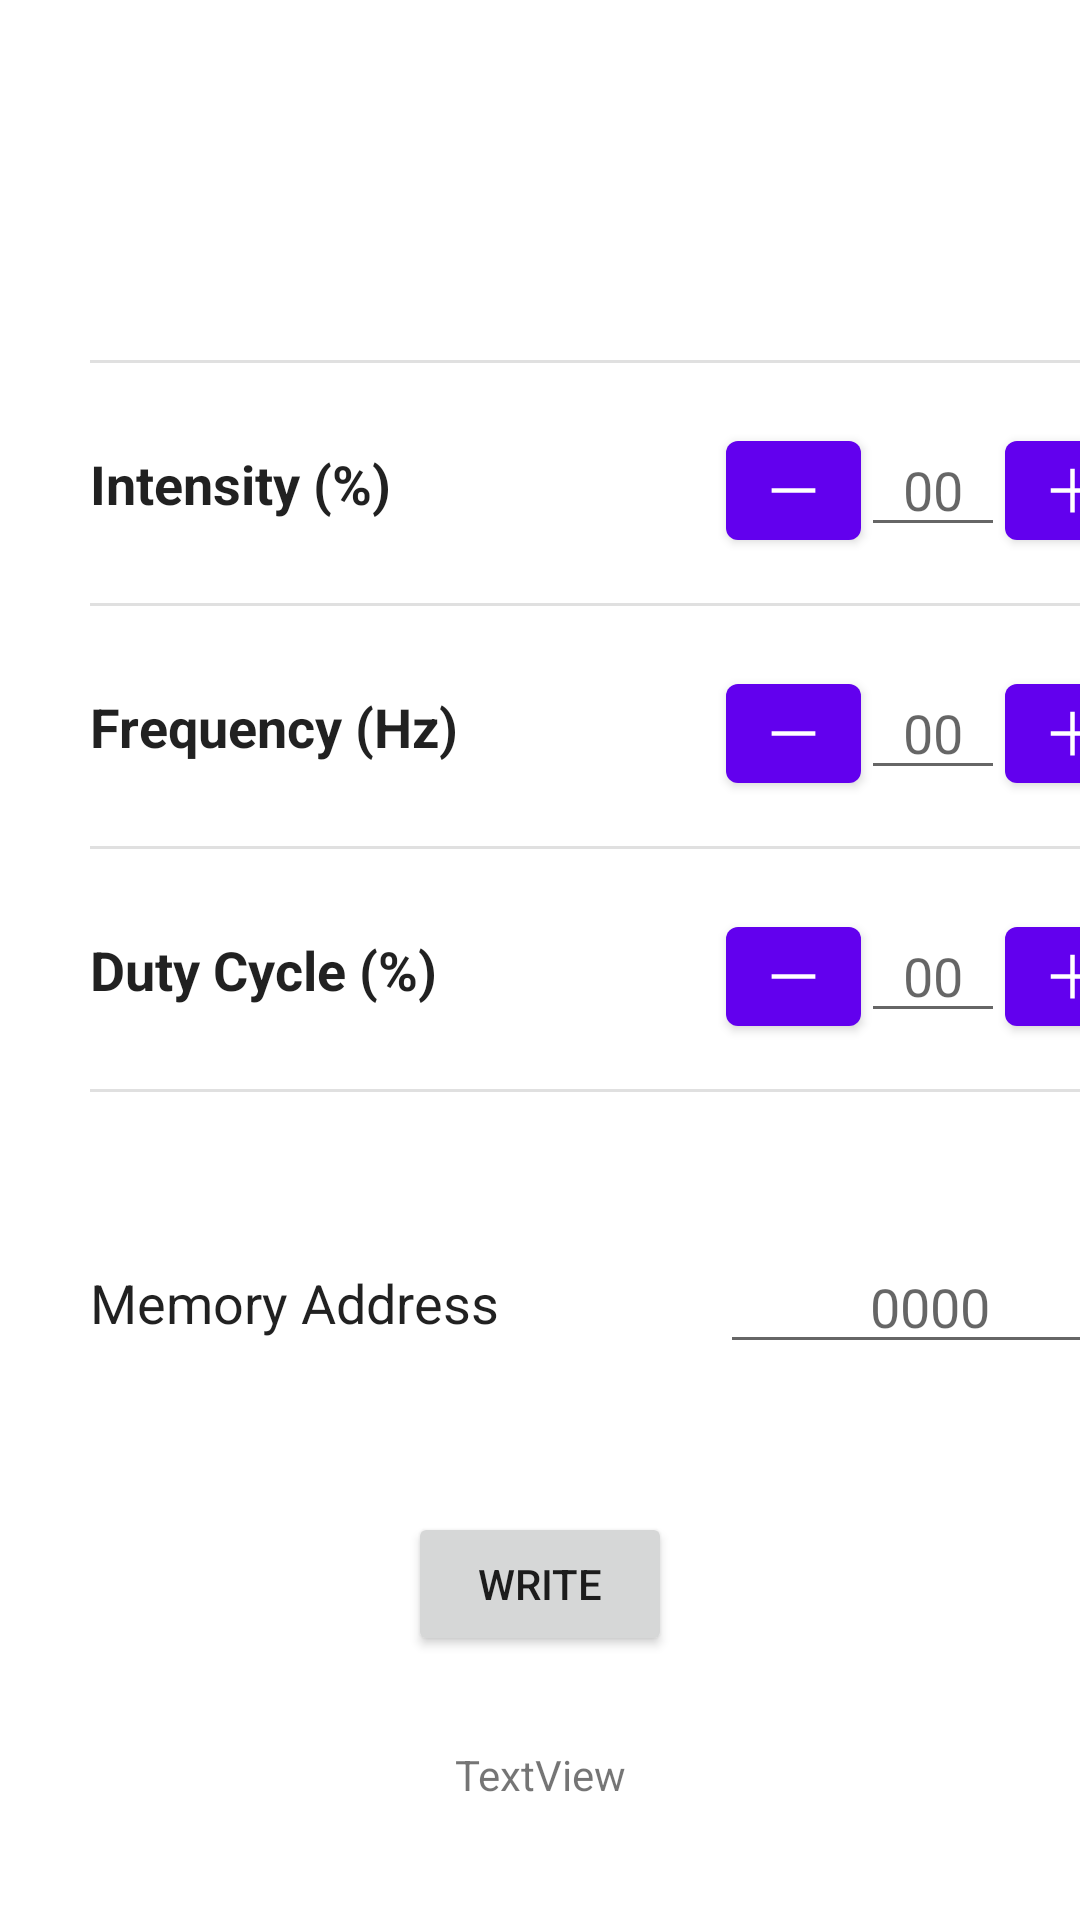

Locate icon controls on the screen. Image size 1080px×1920px, boxes as (left=x1, top=y1, right=x2, bottom=y2).
remove: (left=726, top=441, right=861, bottom=540), (left=726, top=684, right=861, bottom=784), (left=726, top=927, right=861, bottom=1028)
